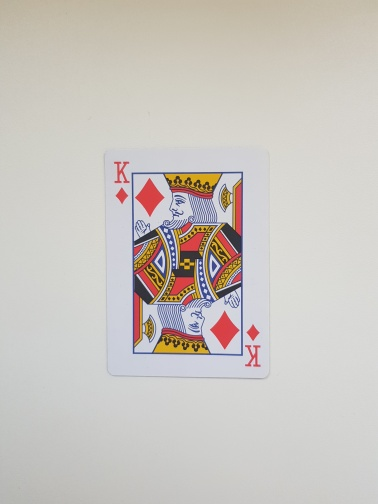king: (104, 147, 270, 381)
